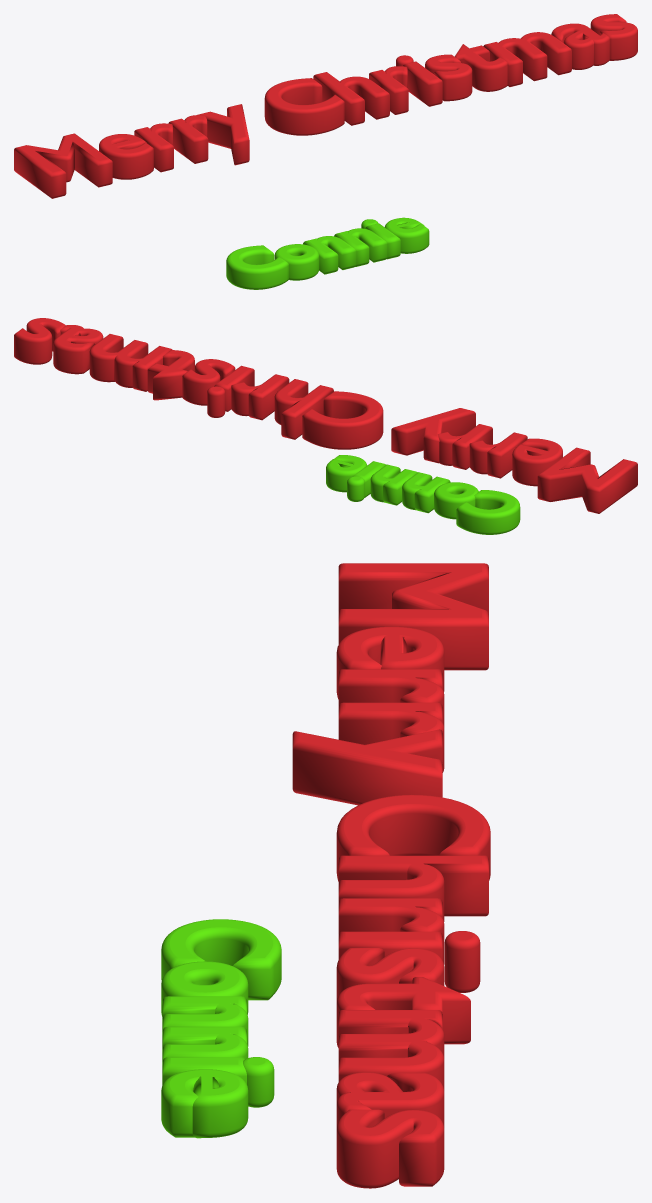
File: Connie.glb
3 views of the same model, one above another, from view 1: azimuth 30°, elevation 25°; view 2: azimuth 150°, elevation 25°; view 3: azimuth 270°, elevation 25° (orthographic). The views are drawn at different scales.
Parts seen in each view (by area): view 1: Text, Text.001; view 2: Text, Text.001; view 3: Text, Text.001.
Boxes of the visible parts, left/top/right/bottom form: Text: left=14, top=14, right=637, bottom=198; Text.001: left=226, top=217, right=429, bottom=289; Text: left=14, top=318, right=637, bottom=513; Text.001: left=326, top=455, right=520, bottom=534; Text: left=292, top=563, right=490, bottom=1188; Text.001: left=161, top=919, right=281, bottom=1138.
Size of the model in its own units: 9.52 by 1.93 by 2.3.
